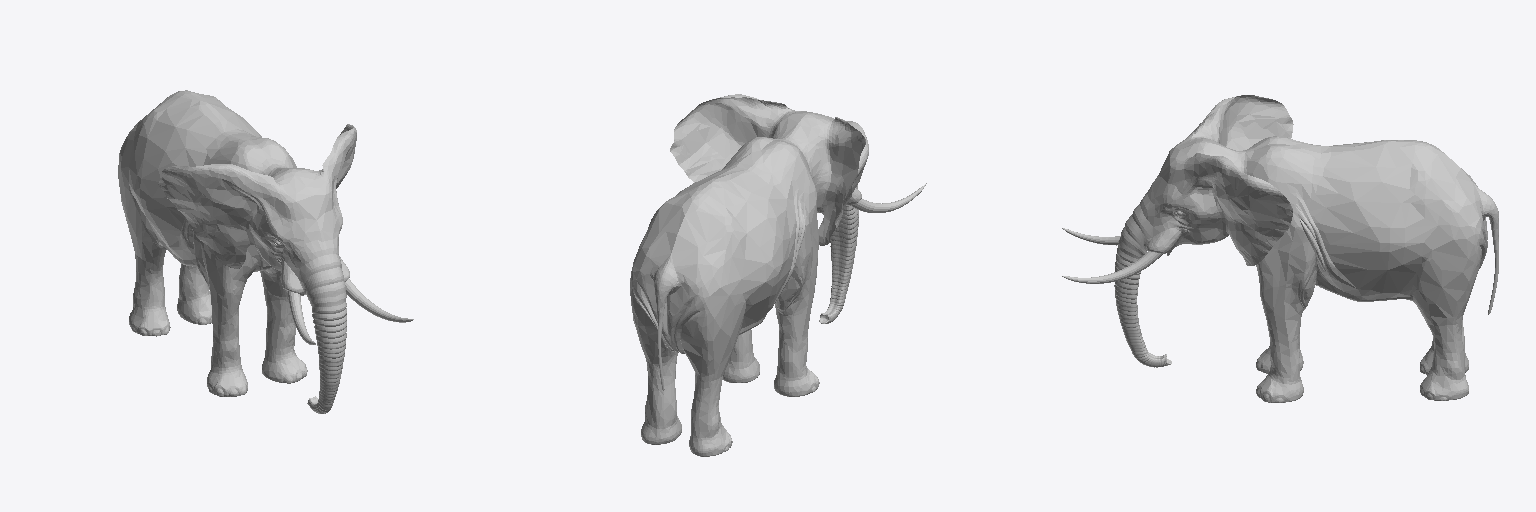
The model's file is elepham.obj.
The picture shows the model from 3 angles: view 1: azimuth 30°, elevation 25°; view 2: azimuth 150°, elevation 25°; view 3: azimuth 270°, elevation 25°; orthographic projection.
Bounding box in the file's own units: 546 × 717 × 1132.